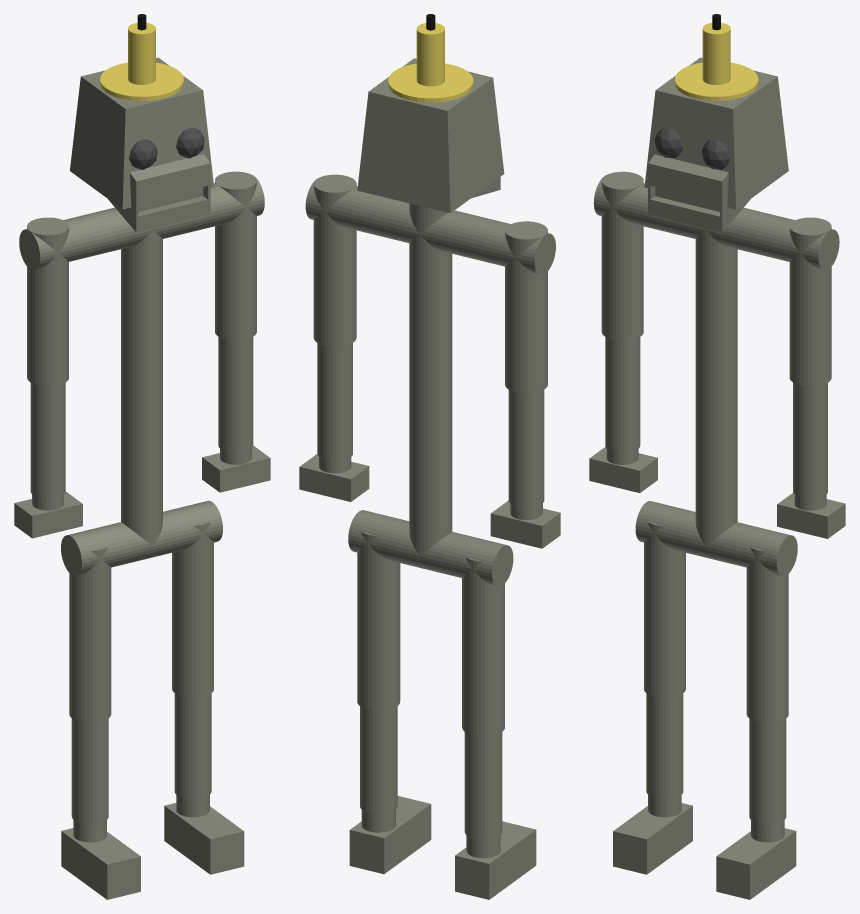
Rendered from theguy.fbx.
3 views of the same model, side by side, from view 1: azimuth 30°, elevation 25°; view 2: azimuth 150°, elevation 25°; view 3: azimuth 330°, elevation 25° (orthographic).
Parts seen in each view (by area): view 1: Cylinder.003, Cylinder.009, Cylinder.008, Cylinder.005, Cylinder.006, Cube, Cylinder.004, Cylinder.007, Cube.001, Cube.002, Cube.003, Cylinder.002 (+5 smaller); view 2: Cube, Cylinder.003, Cylinder.008, Cylinder.009, Cylinder.005, Cylinder.006, Cylinder.004, Cylinder.007, Cube.002, Cube.003, Cylinder.002, Cube.005 (+2 smaller); view 3: Cylinder.003, Cylinder.008, Cylinder.009, Cylinder.005, Cylinder.006, Cube, Cylinder.004, Cylinder.007, Cube.001, Cube.002, Cube.003, Cylinder.002 (+5 smaller).
Boxes of the visible parts, bbox=[...] form: Cylinder.003: bbox=[121, 228, 162, 546]; Cylinder.009: bbox=[69, 547, 111, 842]; Cylinder.008: bbox=[172, 522, 213, 817]; Cylinder.005: bbox=[27, 217, 68, 510]; Cylinder.006: bbox=[215, 171, 256, 464]; Cube: bbox=[70, 57, 213, 209]; Cylinder.004: bbox=[19, 177, 264, 270]; Cylinder.007: bbox=[61, 500, 222, 576]; Cube.001: bbox=[108, 154, 210, 232]; Cube.002: bbox=[164, 803, 244, 874]; Cube.003: bbox=[61, 828, 140, 899]; Cylinder.002: bbox=[100, 62, 183, 100]; Cube: bbox=[357, 58, 504, 213]; Cylinder.003: bbox=[409, 203, 452, 557]; Cylinder.008: bbox=[357, 531, 400, 832]; Cylinder.009: bbox=[462, 557, 504, 858]; Cylinder.005: bbox=[505, 221, 547, 519]; Cylinder.006: bbox=[313, 174, 356, 473]; Cylinder.004: bbox=[305, 179, 555, 275]; Cylinder.007: bbox=[348, 510, 513, 586]; Cube.002: bbox=[349, 796, 431, 874]; Cube.003: bbox=[455, 821, 536, 899]; Cylinder.002: bbox=[388, 63, 473, 102]; Cube.005: bbox=[490, 500, 560, 548]; Cylinder.003: bbox=[695, 228, 737, 547]; Cylinder.008: bbox=[746, 547, 788, 842]; Cylinder.009: bbox=[644, 522, 685, 817]; Cylinder.005: bbox=[601, 171, 643, 464]; Cylinder.006: bbox=[789, 217, 831, 510]; Cube: bbox=[644, 57, 788, 209]; Cylinder.004: bbox=[593, 176, 839, 270]; Cylinder.007: bbox=[635, 501, 797, 576]; Cube.001: bbox=[648, 154, 750, 232]; Cube.002: bbox=[716, 828, 796, 899]; Cube.003: bbox=[613, 803, 692, 874]; Cylinder.002: bbox=[675, 62, 758, 100].
Bounding box in the file's own units: 371 × 1252 × 164.
